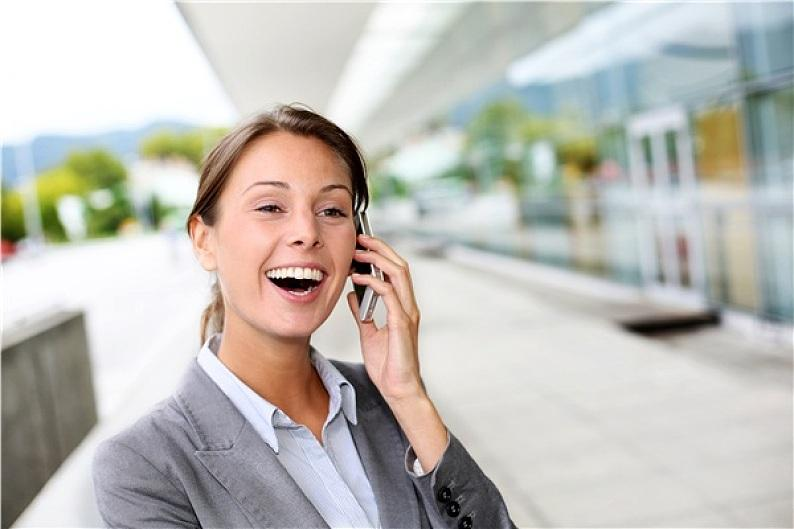calling: (346, 209, 426, 398)
